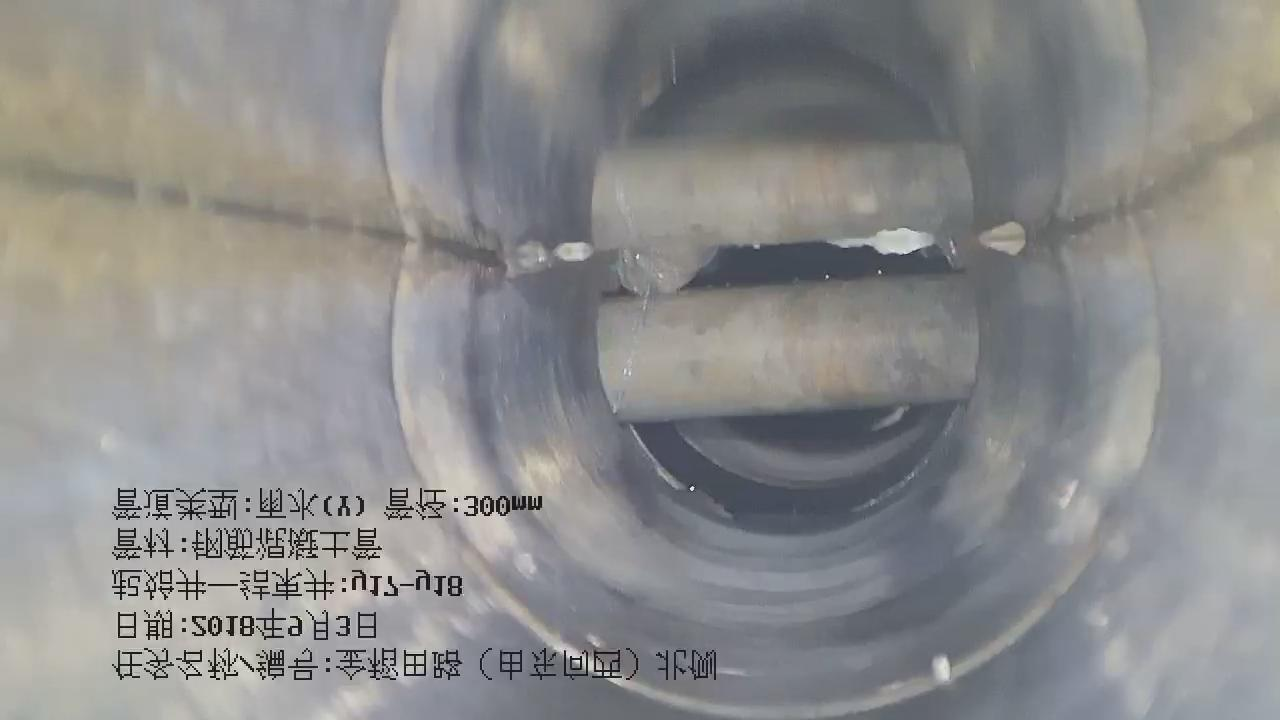YWCR: (597, 274, 978, 422)
